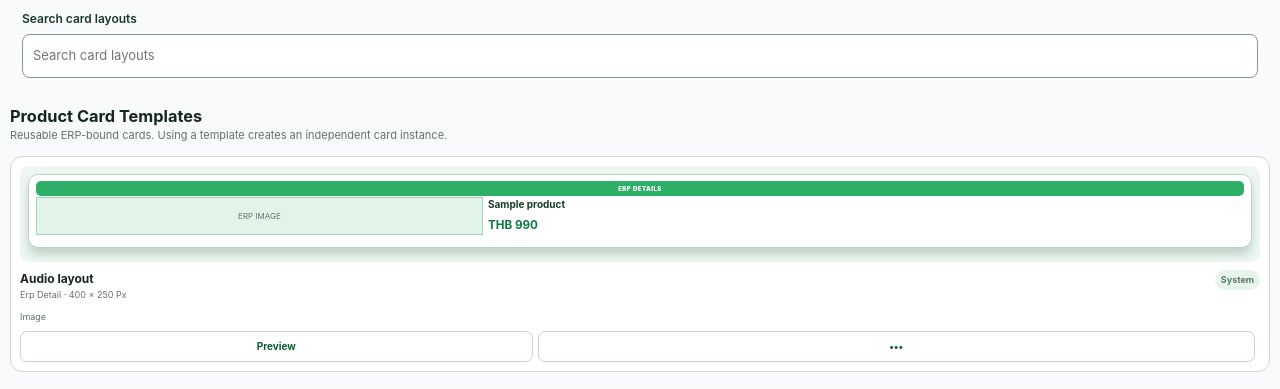
Scenario: Studio card layout search › shows no matches and retains the existing read-only use permission
The image size is (1280, 389).
Step 1. Type "unavailable" into the search field labelled "Search card layouts" → coordinates (640, 56), box [23,35,1257,76]
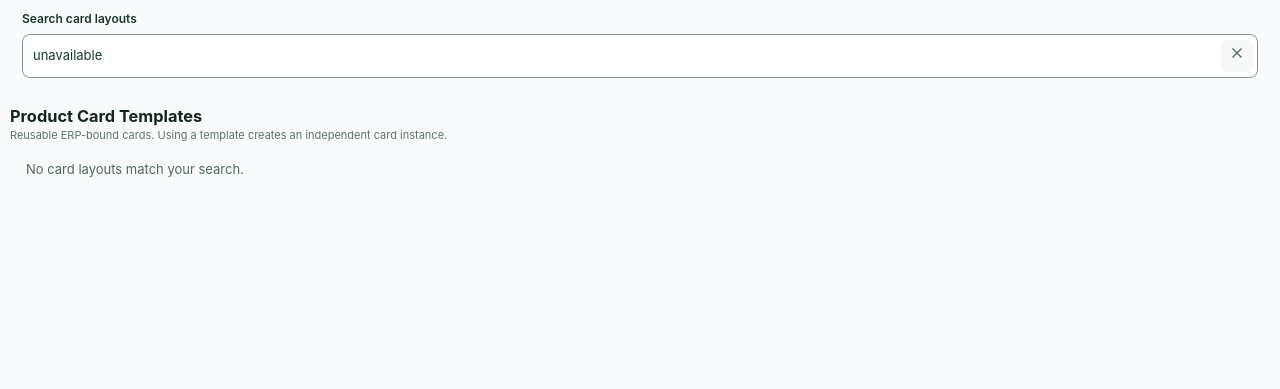
Expected: the text "No card layouts match your search." is shown, [26,161,244,177]
